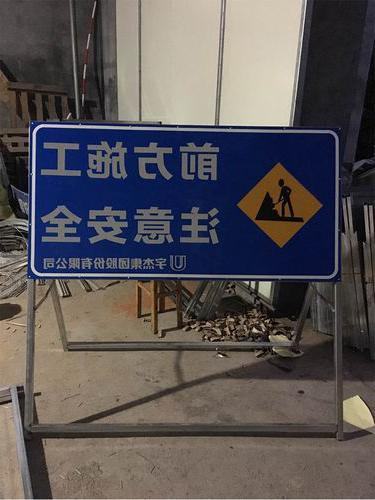sign: (29, 123, 339, 282)
